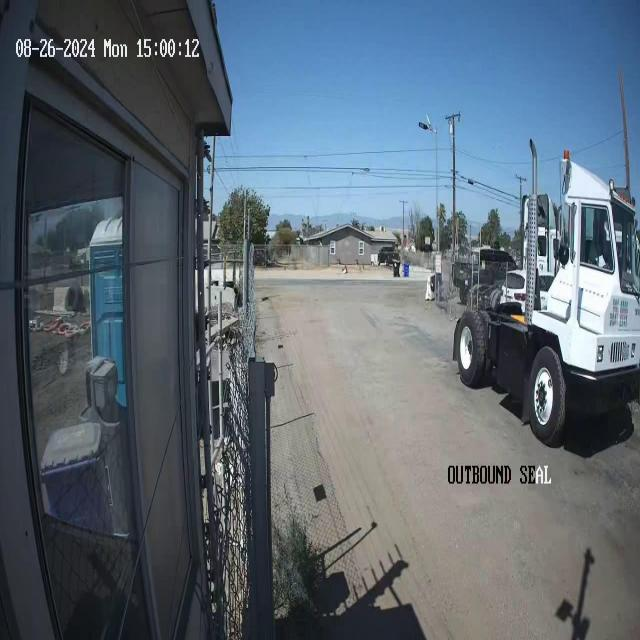TRUCK_IN: (452, 138, 639, 448)
